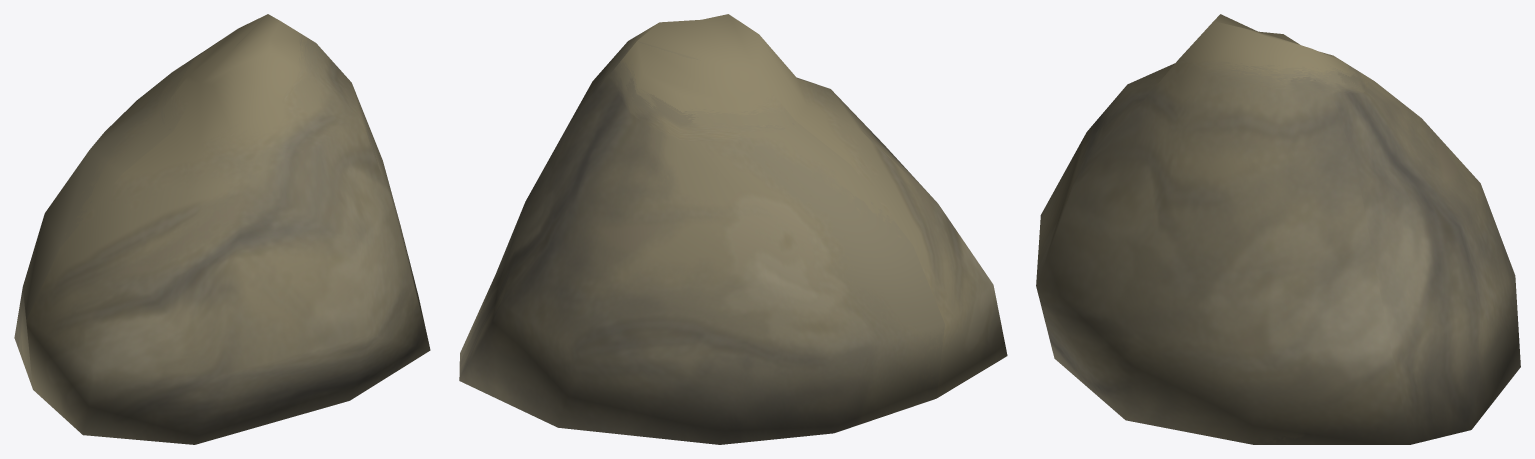
Rendered from rock2.fbx.
3 views of the same model, side by side, from view 1: azimuth 30°, elevation 25°; view 2: azimuth 150°, elevation 25°; view 3: azimuth 270°, elevation 25° (orthographic). The views are drawn at different scales.
Parts seen in each view (by area): view 1: rock2; view 2: rock2; view 3: rock2.
Boxes of the visible parts, <box> form: rock2: <box>14,14,430,444</box>; rock2: <box>459,14,1007,444</box>; rock2: <box>1036,14,1520,444</box>.
Size of the model in its own units: 304 by 222 by 291.
